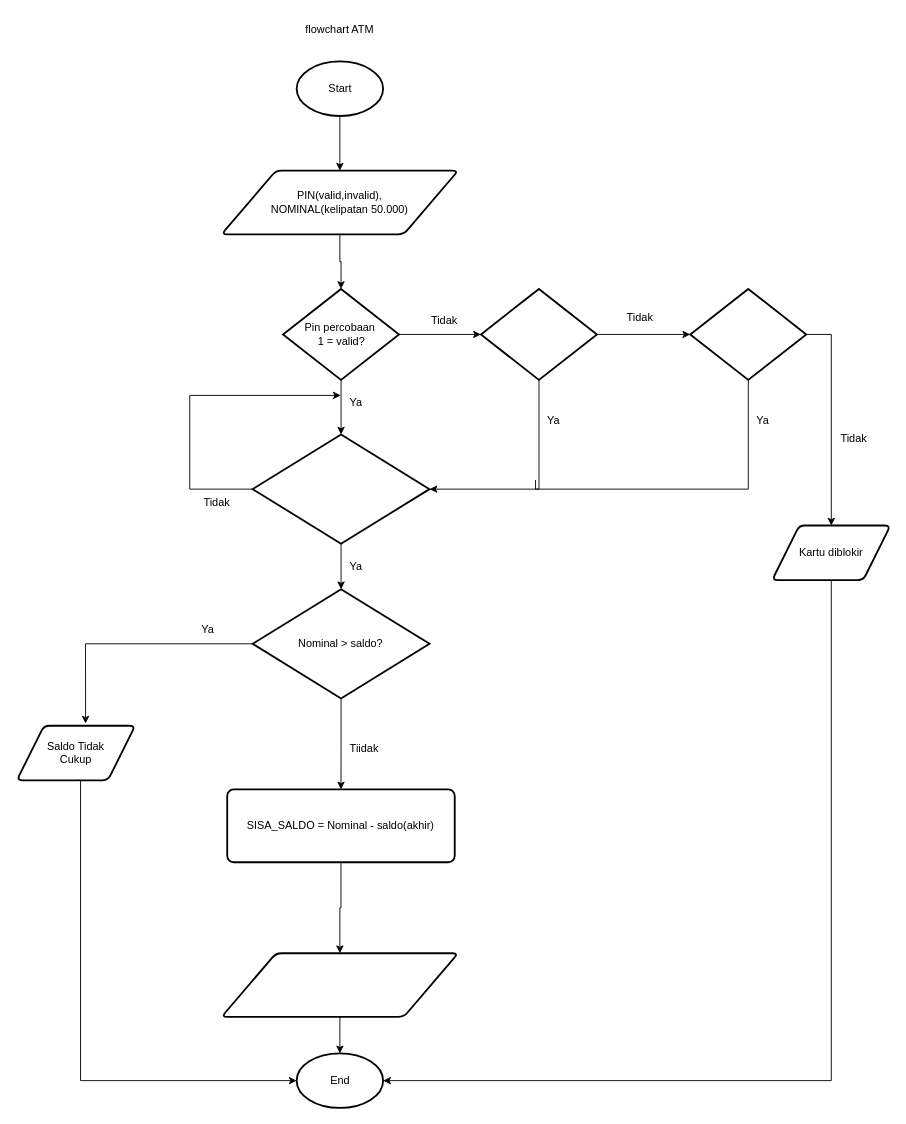
The diagram is 906 pixels wide and 1124 high, and some of its shapes have lost their labels. Here are the shapes that lost their labels. From the top down, the centre of each, then its label:
point 538,334: Pin percobaan 2 = valid?
point 748,334: Pin percobaan 3 = valid?
point 340,488: Nominal masukkan = Kelipatan 50.000?
point 339,984: Uang(int), SISA_SALDO
